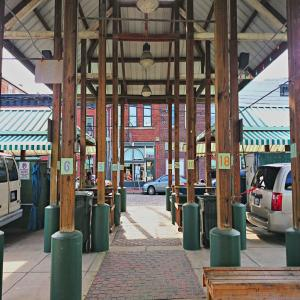Vehicle-registration-plate: (255, 198, 261, 207)
